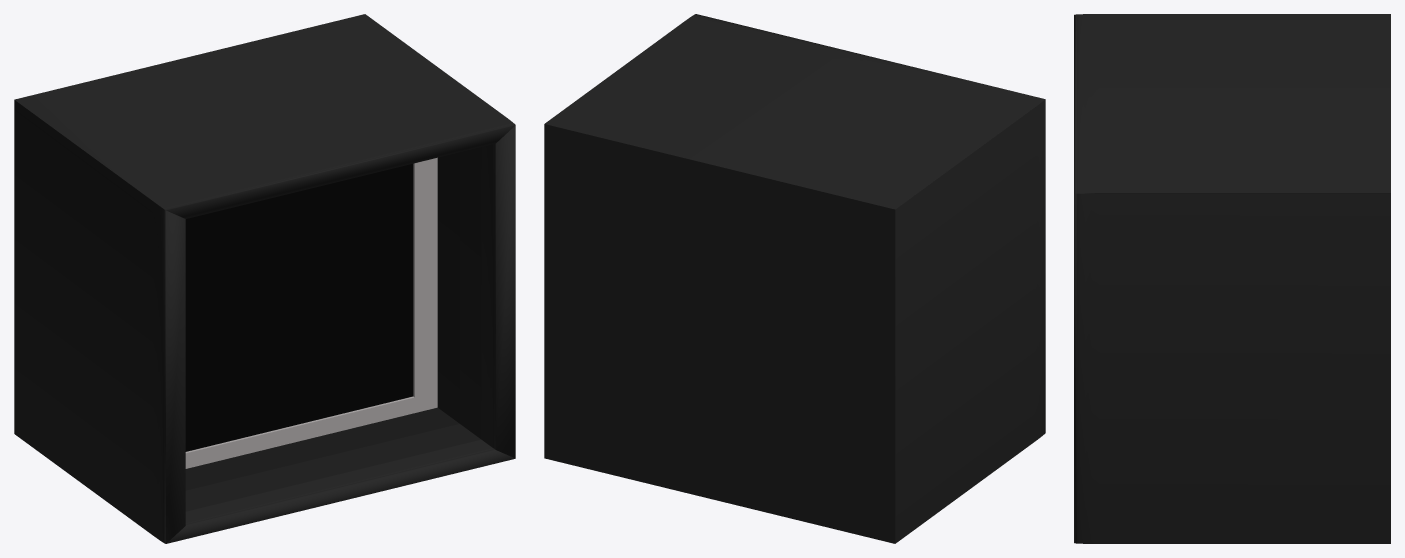
Rendered from Frame10.glb.
3 renders of one model, left to right at view 1: azimuth 30°, elevation 25°; view 2: azimuth 150°, elevation 25°; view 3: azimuth 270°, elevation 25°, orthographic. The views are drawn at different scales.
Parts seen in each view (by area): view 1: Box046_Material #25_0, Box046_Material #26_0, A_PaintingMesh, Box046_Frame_0; view 2: Box046_Material #25_0; view 3: Box046_Material #25_0.
Boxes of the visible parts, <box> form: Box046_Material #25_0: <box>14,14,515,543</box>; Box046_Material #26_0: <box>186,148,480,510</box>; A_PaintingMesh: <box>185,164,413,451</box>; Box046_Frame_0: <box>185,157,437,468</box>; Box046_Material #25_0: <box>544,14,1045,543</box>; Box046_Material #25_0: <box>1074,14,1390,543</box>.
Bounding box in the file's own units: 1.34 × 1.22 × 1.
4 materials, 1 textured.
